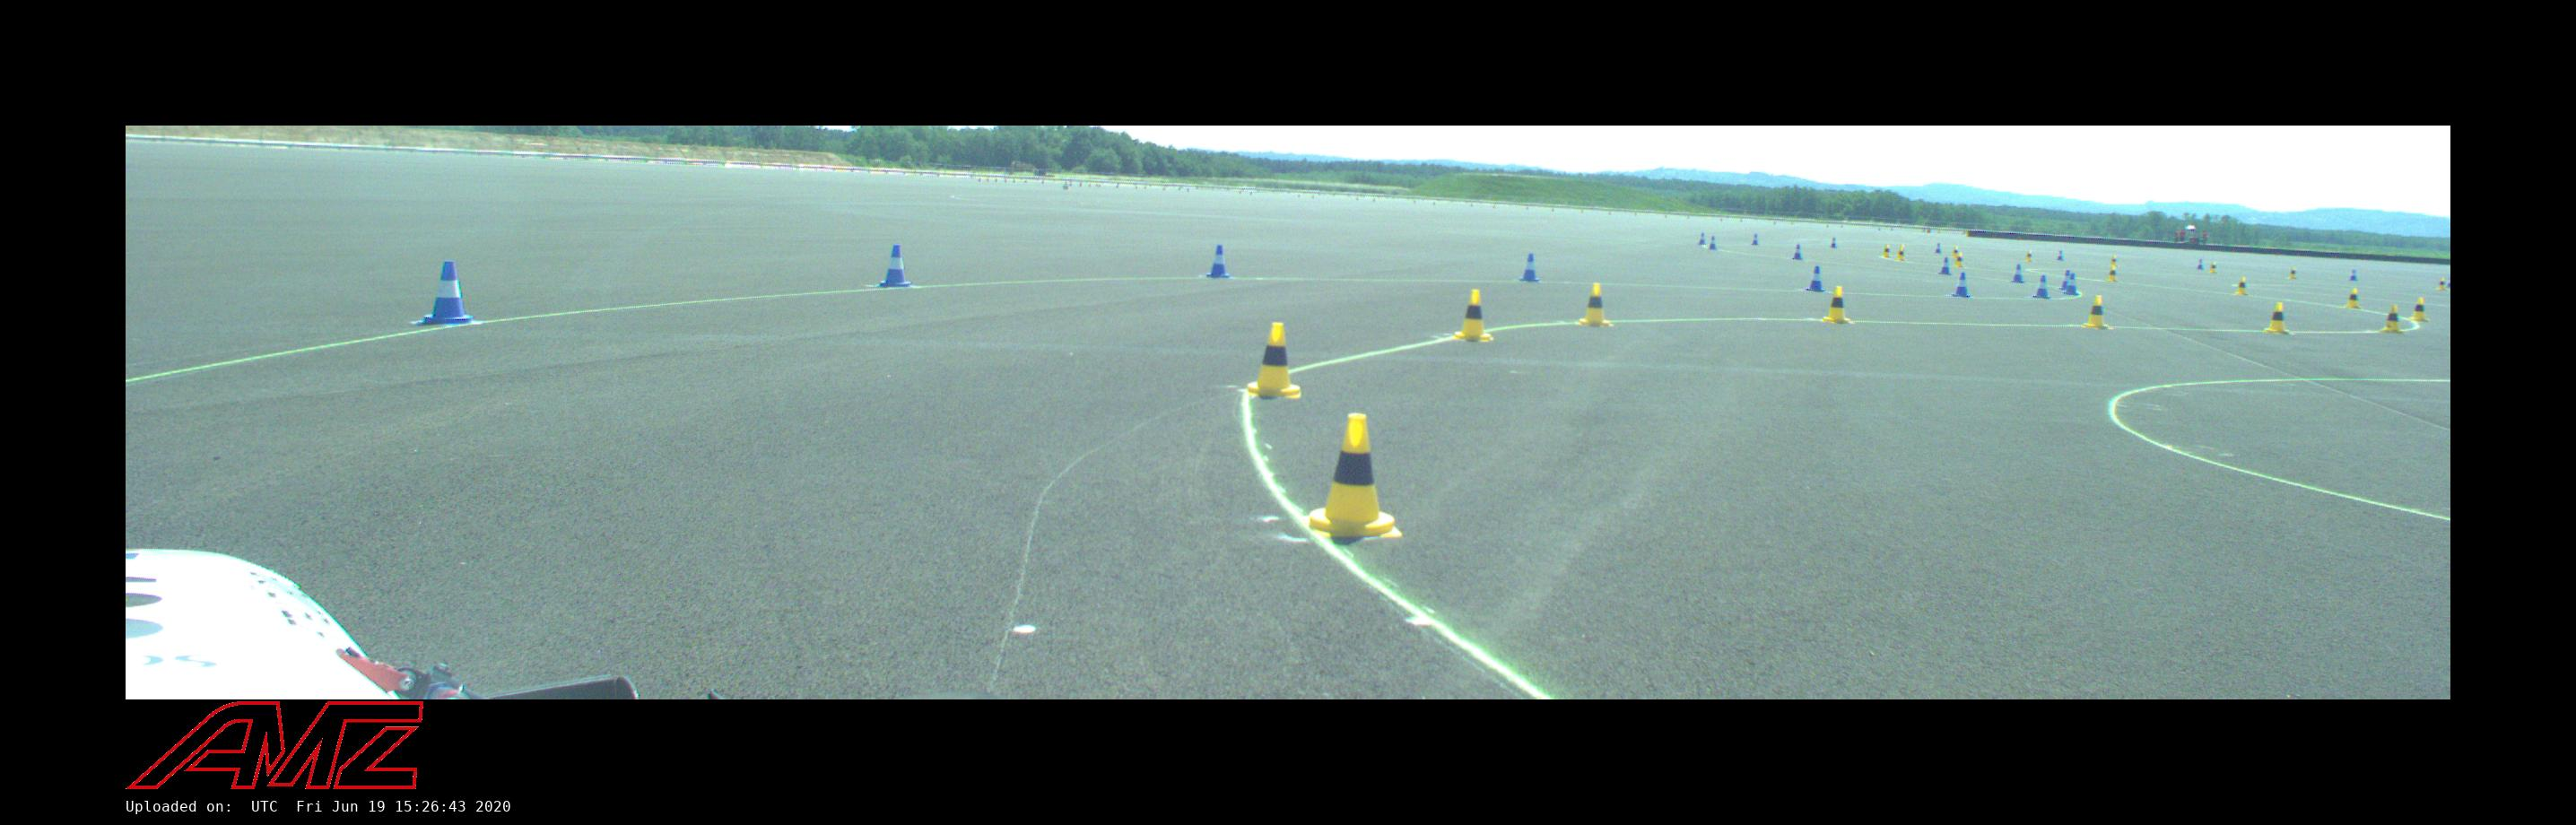blue_cone: (422, 260, 473, 325), (879, 245, 912, 288), (1206, 243, 1230, 278), (1518, 253, 1539, 281), (1805, 266, 1825, 291), (1952, 271, 1970, 297), (2032, 276, 2052, 299), (2009, 263, 2026, 283), (2065, 271, 2077, 296), (1939, 256, 1952, 276), (2058, 270, 2072, 289), (1791, 243, 1804, 260), (1709, 235, 1717, 250), (1697, 232, 1705, 245), (1751, 233, 1760, 247), (2196, 258, 2205, 270), (1830, 237, 1838, 248), (2349, 270, 2357, 281), (2055, 250, 2063, 260), (1935, 243, 1942, 253), (2446, 278, 2451, 289)
yellow_cone: (1303, 414, 1405, 539), (1249, 322, 1301, 398), (1452, 289, 1492, 340), (1579, 283, 1612, 327), (1822, 286, 1850, 324), (2083, 296, 2109, 329), (2266, 302, 2288, 334), (2382, 306, 2403, 334), (2408, 297, 2428, 322), (2344, 288, 2362, 309), (2234, 278, 2249, 296), (2106, 268, 2119, 283), (2436, 278, 2446, 291), (1955, 253, 1963, 268), (2024, 250, 2034, 261), (2108, 255, 2118, 266), (1897, 248, 1906, 261), (1897, 243, 1906, 256), (1883, 247, 1891, 258), (2288, 268, 2297, 279), (2210, 261, 2218, 273), (1953, 247, 1960, 258)
